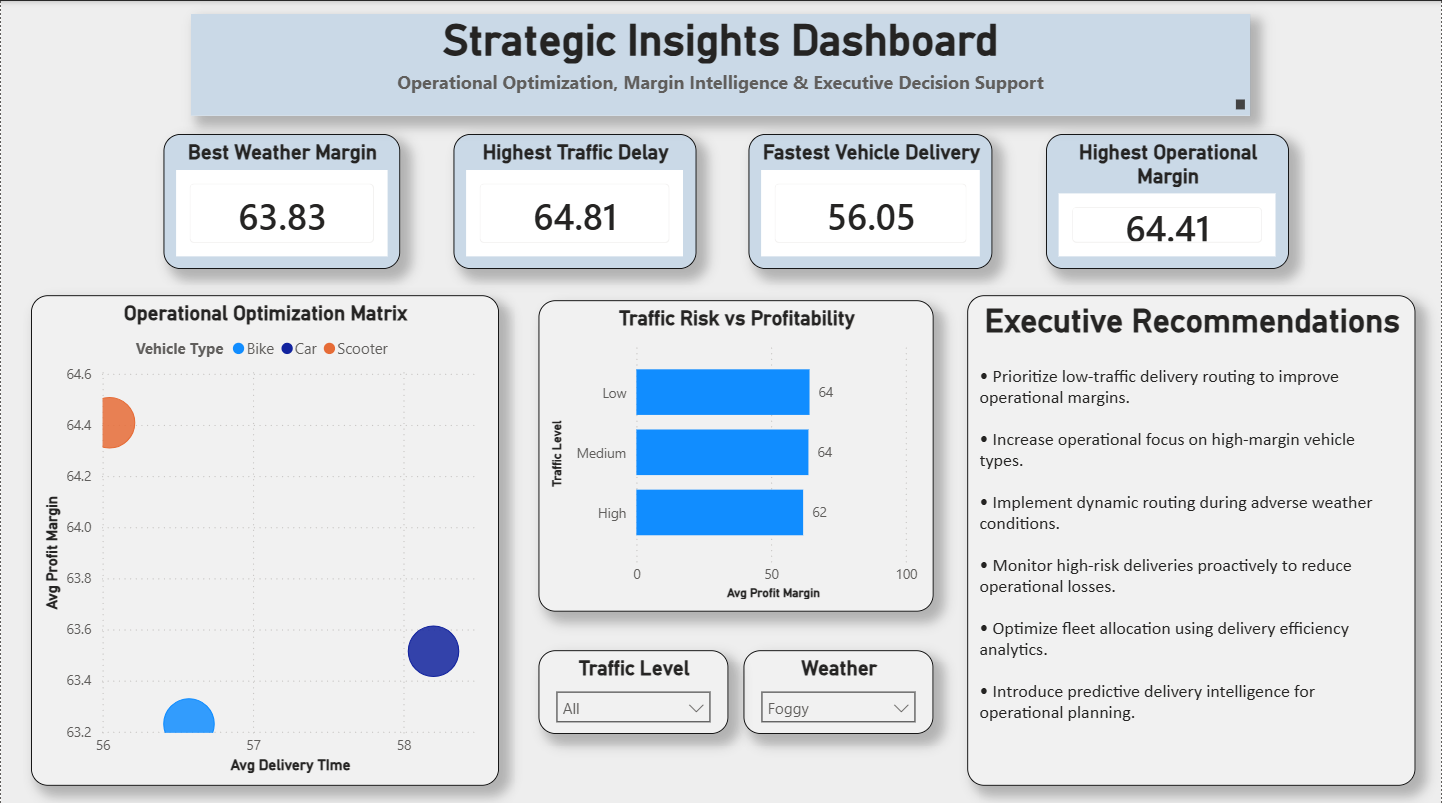

The page's visual inventory and layout, read from the dashboard file:
{"tool":"powerbi","page":{"name":"Strategic Insights","canvas":[1280,720],"ordinal":3},"visuals":[{"type":"cardVisual","title":"Best Weather Margin","fields":{"Data":["Max(weather_analysis.Average_Profit_Margin)"]},"box":[144.6,120,210,120],"z":0},{"type":"cardVisual","title":"Highest Traffic Delay","fields":{"Data":["Max(traffic_analysis.Average_Delivery_Time)"]},"box":[401.7,120,215.7,120],"z":1000},{"type":"cardVisual","title":"Fastest Vehicle Delivery","fields":{"Data":["Min(vehicle_analysis.Average_Delivery_Time)"]},"box":[664.6,120,217.1,120],"z":2000},{"type":"cardVisual","title":"Highest Operational Margin","fields":{"Data":["Max(vehicle_analysis.Average_Profit_Margin)"]},"box":[928.9,120,215.7,120],"z":3000},{"type":"scatterChart","title":"Operational Optimization Matrix","fields":{"X":["vehicle_analysis.Average_Delivery_Time"],"Y":["vehicle_analysis.Average_Profit_Margin"],"Size":["CountNonNull(vehicle_analysis.Average_Profit)"],"Series":["vehicle_analysis.Vehicle_Type"]},"box":[27.1,262.9,415.7,435.7],"z":4000},{"type":"barChart","title":"Traffic Risk vs Profitability","fields":{"Category":["traffic_analysis.Traffic_Level"],"Y":["Sum(traffic_analysis.Average_Profit_Margin)"]},"box":[477.4,267.4,351.4,277.1],"z":5000},{"type":"textbox","title":"Executive Recommendations","box":[858.6,262.9,398.6,435.7],"z":6000},{"type":"slicer","title":"Traffic Level","fields":{"Values":["traffic_analysis.Traffic_Level"]},"box":[477.4,578.9,168.6,74.3],"z":7000},{"type":"slicer","title":"Weather","fields":{"Values":["weather_analysis.Weather"]},"box":[660,578.6,168.6,74.3],"z":8000},{"type":"textbox","title":"Strategic Insights Dashboard","box":[168.6,12.9,941.4,90],"z":9000}]}

Visuals, with their boxes in screenshot pixels (x1, y1, x2, y2), scaled from the page's 1280x720 canvas onto the 1442x803 screenshot:
"Best Weather Margin" cardVisual: {"x1": 163, "y1": 134, "x2": 399, "y2": 268}
"Highest Traffic Delay" cardVisual: {"x1": 453, "y1": 134, "x2": 696, "y2": 268}
"Fastest Vehicle Delivery" cardVisual: {"x1": 749, "y1": 134, "x2": 993, "y2": 268}
"Highest Operational Margin" cardVisual: {"x1": 1046, "y1": 134, "x2": 1289, "y2": 268}
"Operational Optimization Matrix" scatterChart: {"x1": 31, "y1": 293, "x2": 499, "y2": 779}
"Traffic Risk vs Profitability" barChart: {"x1": 538, "y1": 298, "x2": 934, "y2": 607}
"Executive Recommendations" textbox: {"x1": 967, "y1": 293, "x2": 1416, "y2": 779}
"Traffic Level" slicer: {"x1": 538, "y1": 646, "x2": 728, "y2": 728}
"Weather" slicer: {"x1": 744, "y1": 645, "x2": 933, "y2": 728}
"Strategic Insights Dashboard" textbox: {"x1": 190, "y1": 14, "x2": 1250, "y2": 115}
